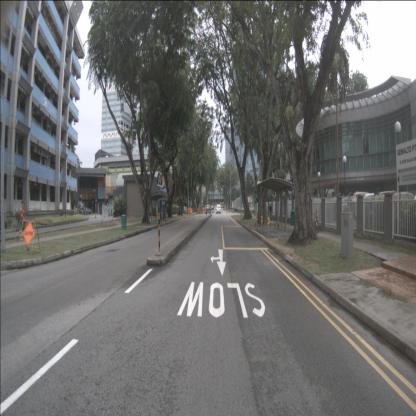human-pedestrian-adult: (17, 200, 27, 240), (268, 204, 272, 222)
vehicle-bicycle: (313, 210, 319, 233)
vehicle-car: (351, 192, 380, 218), (386, 192, 416, 216), (216, 204, 221, 214)
vehicle-motorcycle: (205, 205, 208, 215)
